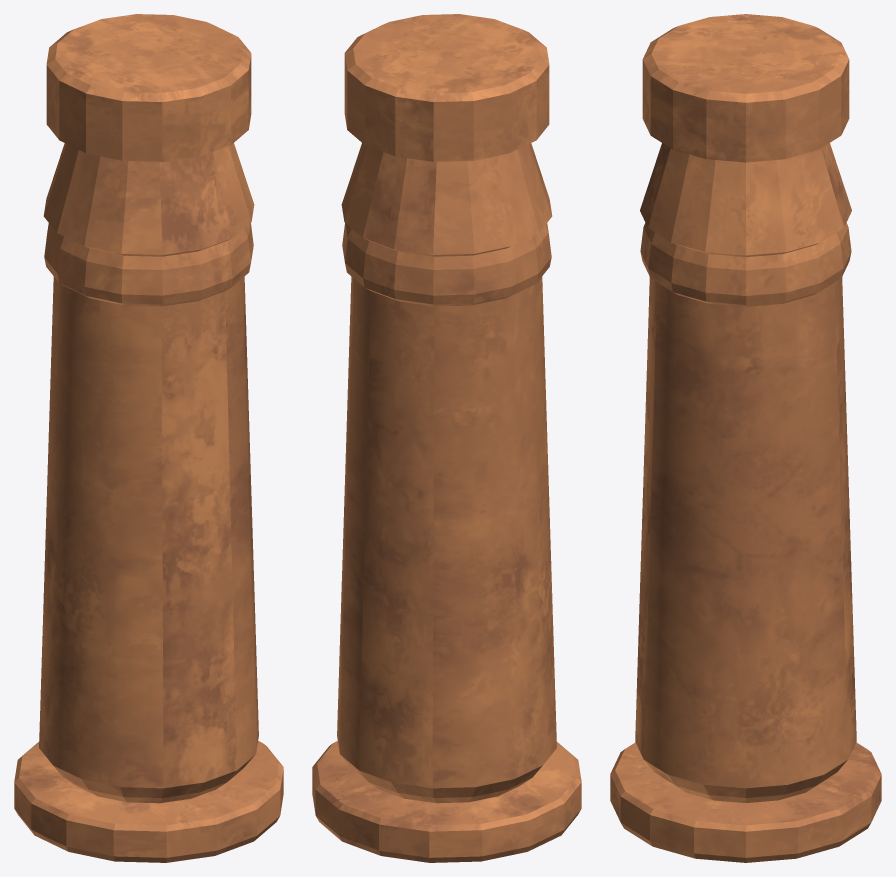
File: column04.fbx
3 views of the same model, side by side, from view 1: azimuth 30°, elevation 25°; view 2: azimuth 150°, elevation 25°; view 3: azimuth 270°, elevation 25° (orthographic).
Parts seen in each view (by area): view 1: pCylinder1; view 2: pCylinder1; view 3: pCylinder1.
Boxes of the visible parts, x1,y1,x2,y2 form: pCylinder1: (14,14,283,862); pCylinder1: (312,14,581,862); pCylinder1: (610,14,881,862).
Size of the model in its own units: 1.78 by 5.46 by 1.78.
